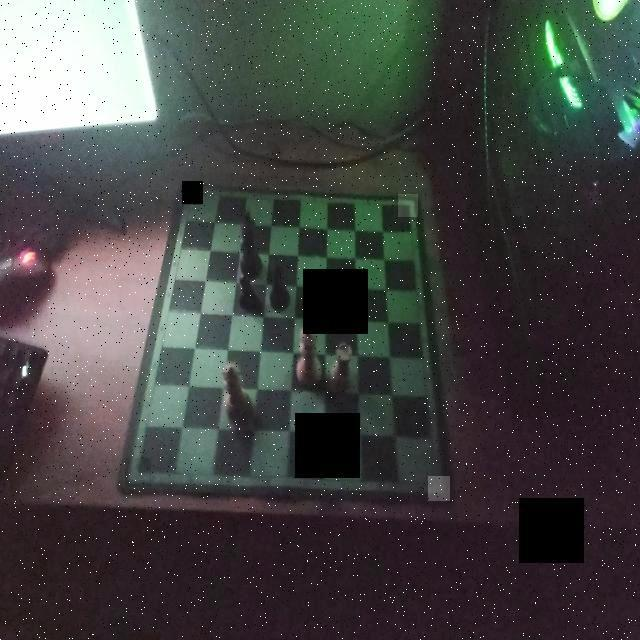chess-table-corners: (125, 458, 151, 487), (428, 476, 450, 501), (182, 182, 203, 206), (398, 194, 418, 217)
